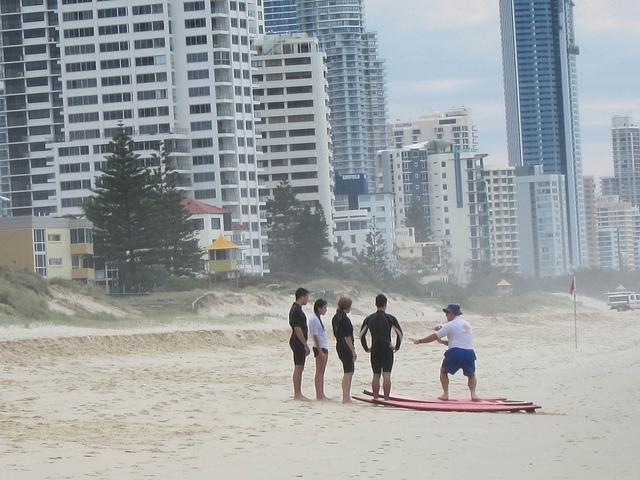truck: (606, 294, 640, 311)
